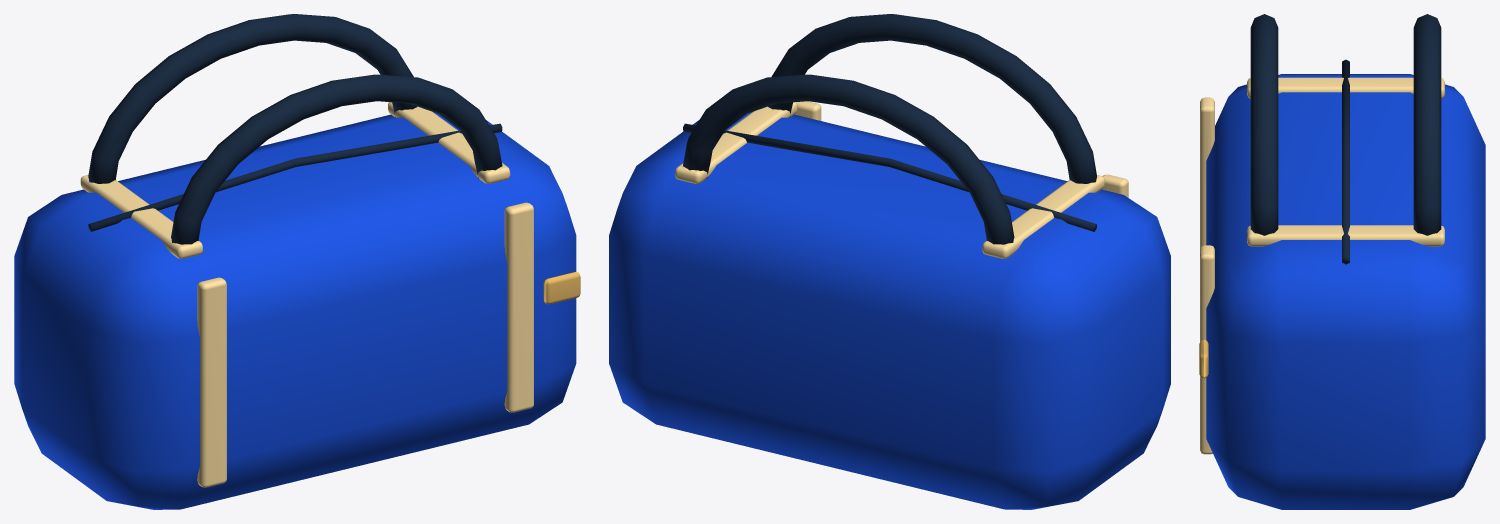
Rendered from 08_Duffel_Bag.glb.
3 views of the same model, side by side, from view 1: azimuth 30°, elevation 25°; view 2: azimuth 150°, elevation 25°; view 3: azimuth 270°, elevation 25° (orthographic).
Visible parts, largest first — view 1: 08_Duffel_Bag_EXPORT; view 2: 08_Duffel_Bag_EXPORT; view 3: 08_Duffel_Bag_EXPORT.
Part boxes in pixels (bbox=[...]): 08_Duffel_Bag_EXPORT: bbox=[14, 14, 580, 509]; 08_Duffel_Bag_EXPORT: bbox=[609, 14, 1170, 509]; 08_Duffel_Bag_EXPORT: bbox=[1199, 14, 1485, 509].
Bounding box in the file's own units: 0.94 × 0.734 × 0.492.
